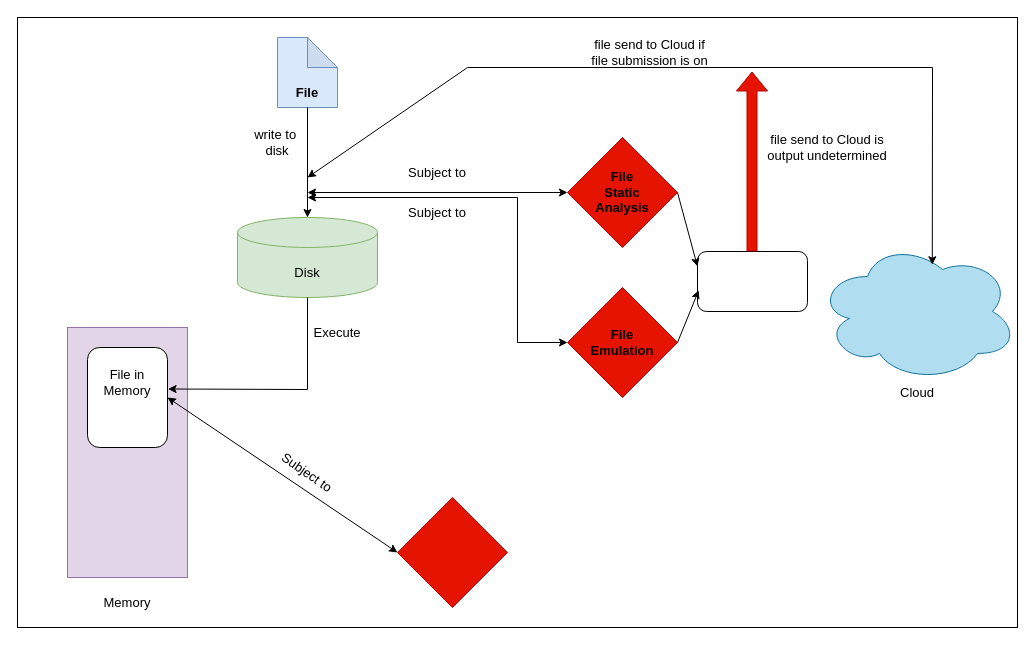
The diagram is 1035 pixels wide and 645 high, and some of its shapes have lost their labels. Here are the shapes that lost their labels. From the top down, the centre of each, then its label:
At (x=752, y=281): "ML model".
At (x=917, y=311): "Static Analysis Emulation".
At (x=452, y=552): "Runtime Behavior Analysis".
